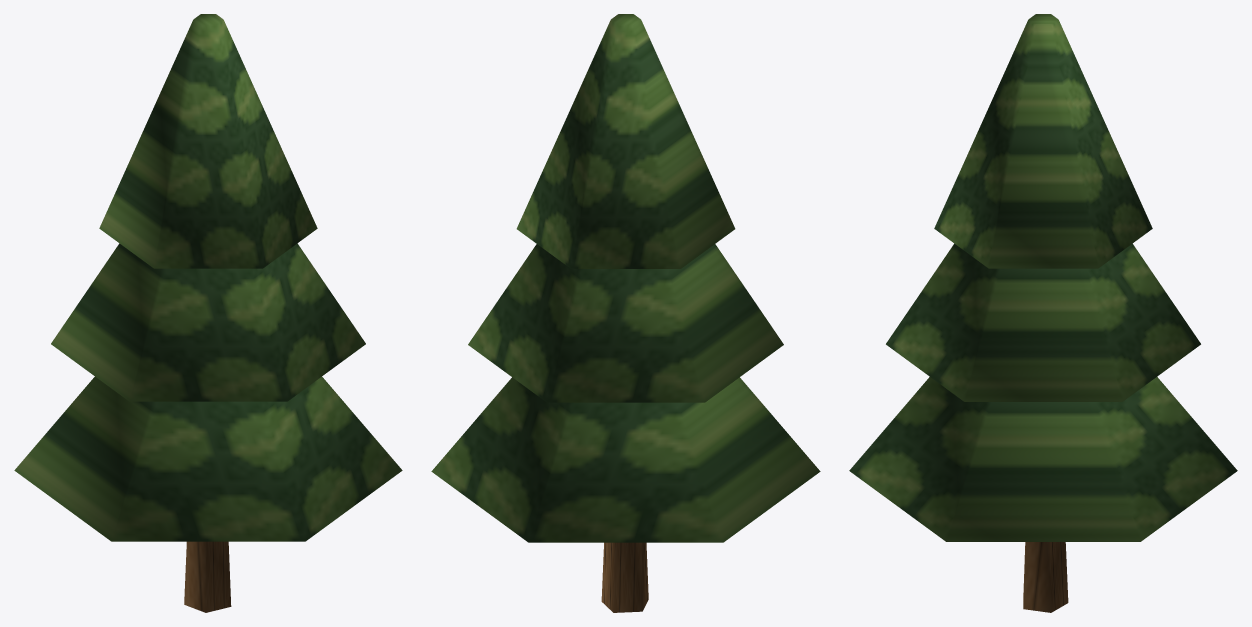
File: tree-upland-lod1.glb
The picture shows the model from 3 angles, left to right: view 1: azimuth 30°, elevation 25°; view 2: azimuth 150°, elevation 25°; view 3: azimuth 270°, elevation 25°; orthographic projection.
Bounding box in the file's own units: 0.5543 × 1.06 × 0.64.
Materials: 1 (1 with a texture image).
